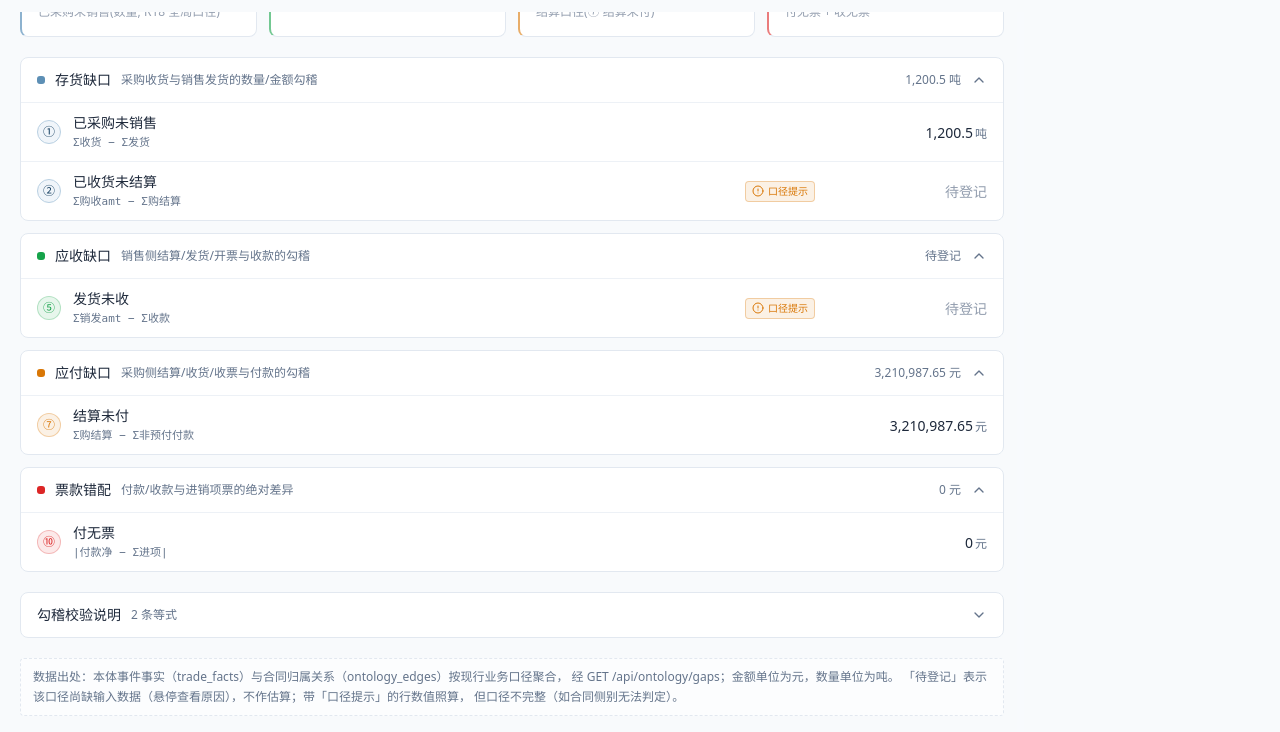
Test case: GapsPanel (business-loop wave4) › 勾稽校验说明默认收起, 点击展开
(page scrolled)
expect the text "Σ收货 3,357" is not shown: met
Click the text "勾稽校验说明" at coordinates (79, 615), box [37, 605, 121, 625]
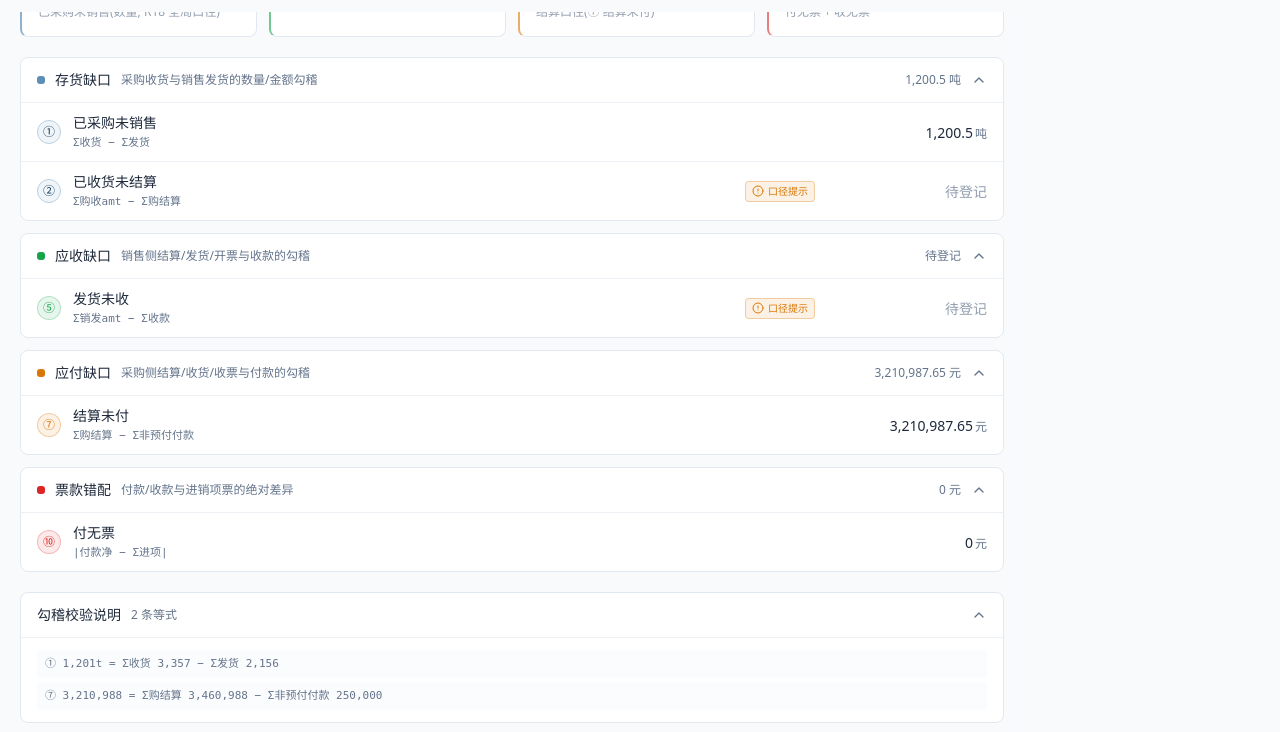
expect the list item "① 1,201t = Σ收货 3,357 − Σ发货 2,156" is shown: met, box [37, 650, 987, 678]
